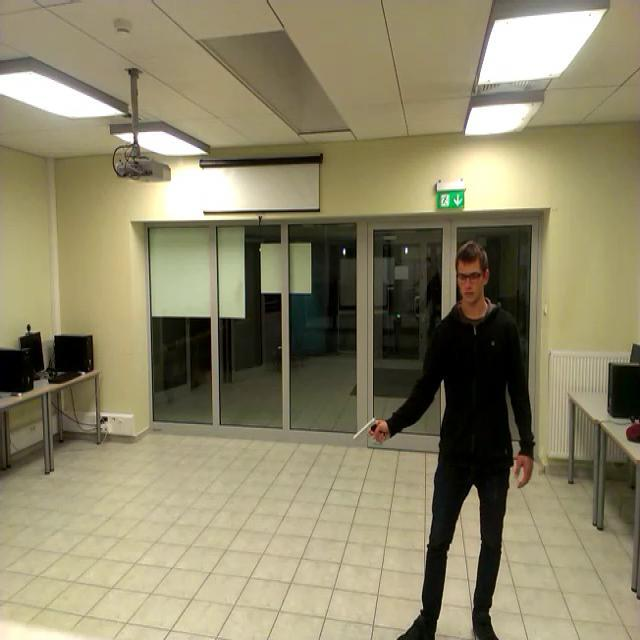Gun: (352, 416, 384, 440)
